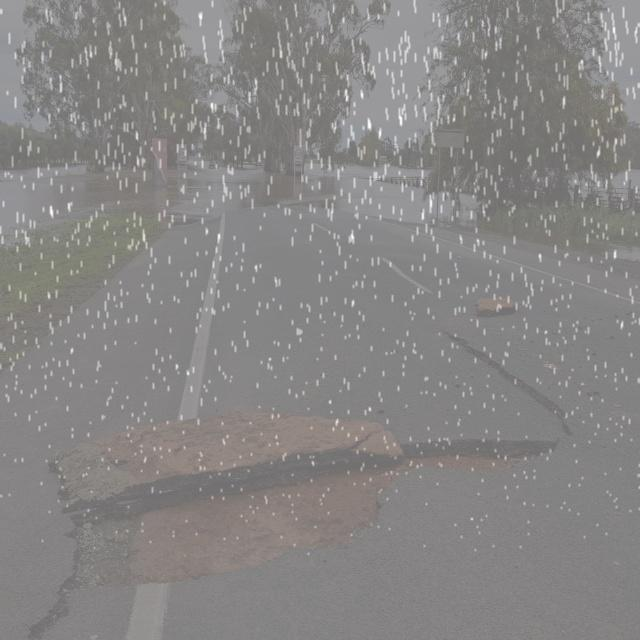Pothole: (21, 404, 566, 640), (438, 319, 574, 433)
